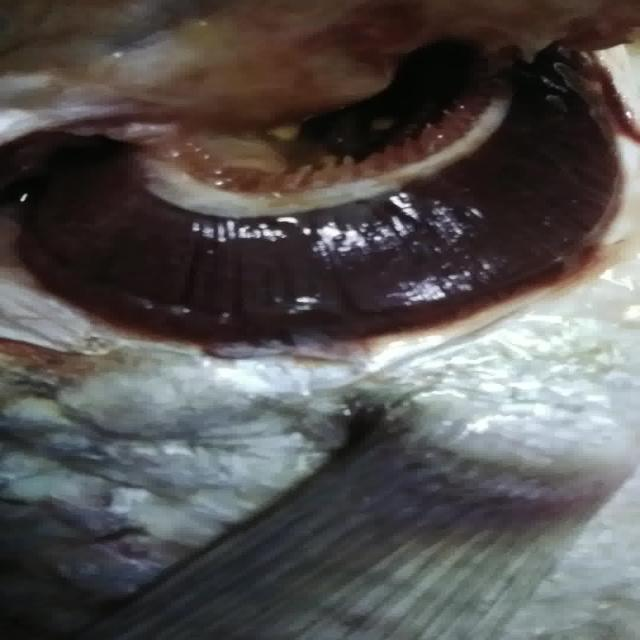Non-Fresh: (8, 31, 636, 371)
